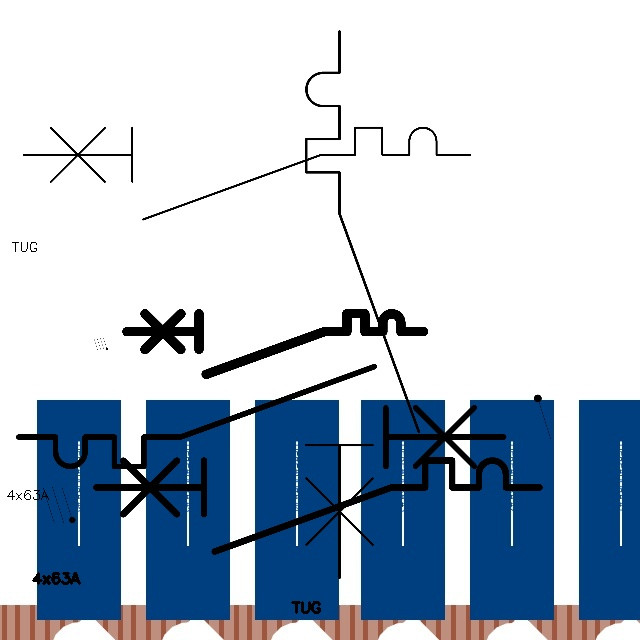interruptor_termomagnetico: (292, 17, 432, 592), (6, 354, 516, 479), (12, 116, 482, 231), (84, 449, 550, 563), (119, 306, 431, 382)
